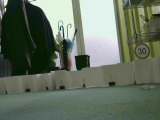speed_30: (133, 43, 150, 59)
